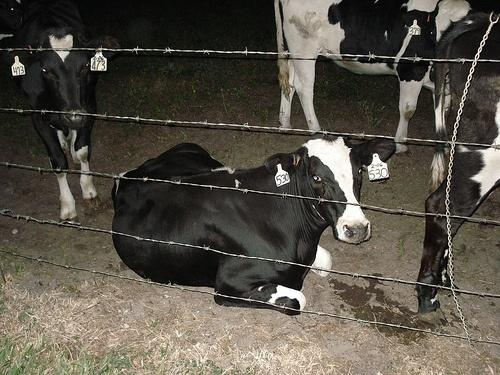cow: (111, 138, 395, 319), (276, 1, 475, 156), (1, 1, 120, 226), (416, 13, 500, 329)
